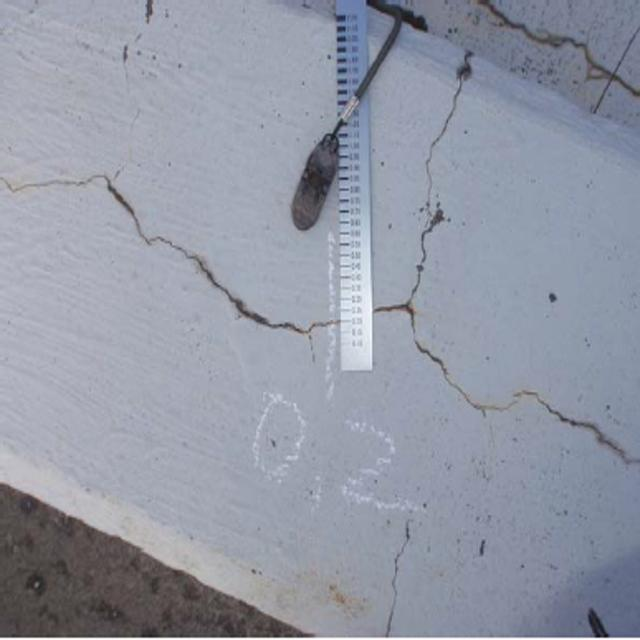crack: (381, 27, 640, 483), (7, 158, 342, 358)
